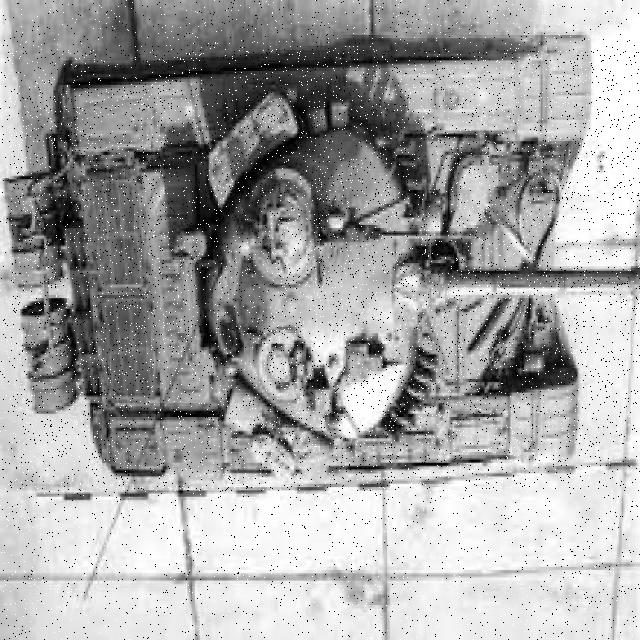MIL_MBT: (9, 49, 640, 491)
